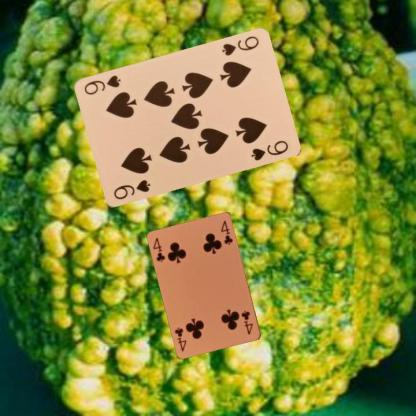4c: (151, 235, 166, 264), (239, 308, 254, 336)
9s: (218, 33, 260, 58), (110, 177, 152, 201)
